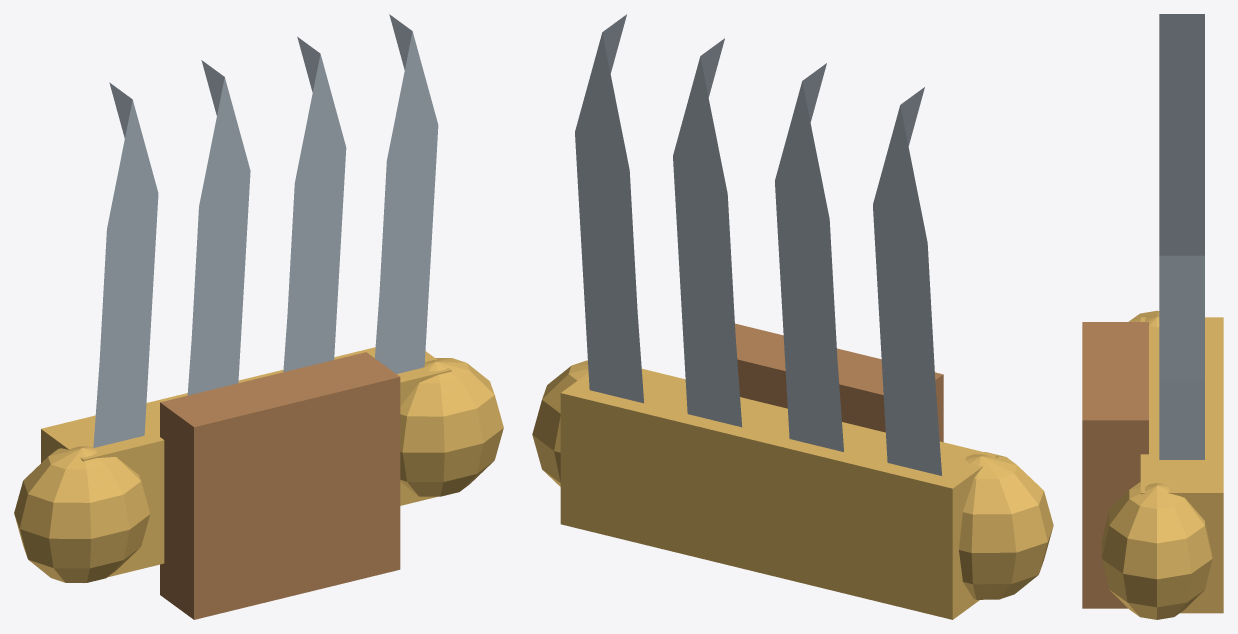
The model's file is wagh-nakh.glb.
3 views of the same model, side by side, from view 1: azimuth 30°, elevation 25°; view 2: azimuth 150°, elevation 25°; view 3: azimuth 270°, elevation 25° (orthographic). The views are drawn at different scales.
Parts seen in each view (by area): view 1: Wagh Nakh; view 2: Wagh Nakh; view 3: Wagh Nakh.
Boxes of the visible parts, <box> form: Wagh Nakh: <box>14,14,503,619</box>; Wagh Nakh: <box>532,14,1053,619</box>; Wagh Nakh: <box>1082,14,1223,619</box>.
Bounding box in the file's own units: 0.65 × 0.645 × 0.17.
